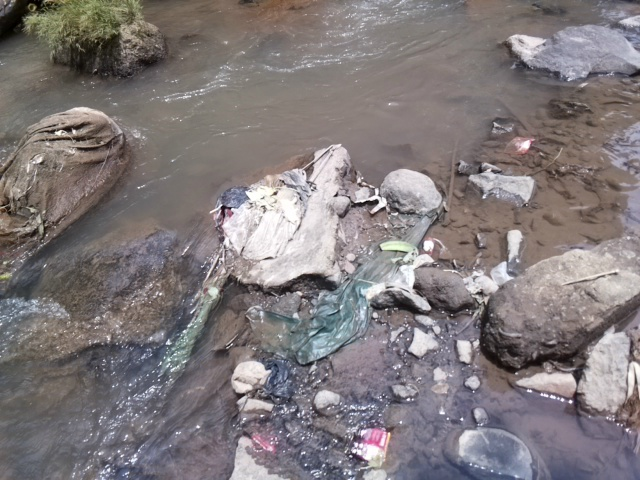Sampah_Plastik: (351, 428, 392, 465), (509, 132, 534, 156)
